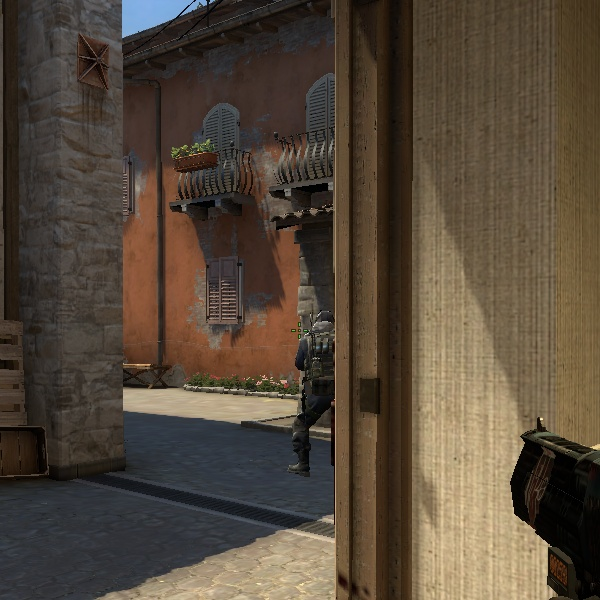ct_body: (281, 307, 341, 478)
